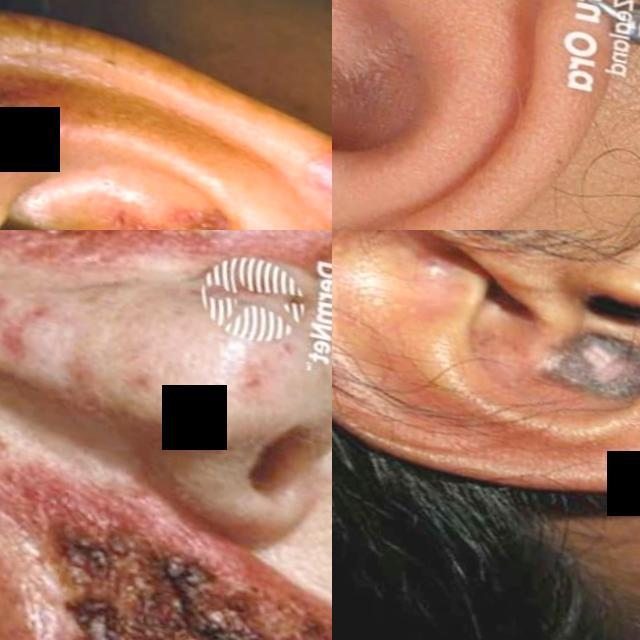lupus-detected: (0, 0, 332, 230), (0, 428, 332, 640), (0, 230, 172, 462), (483, 236, 640, 480), (0, 230, 332, 337)
